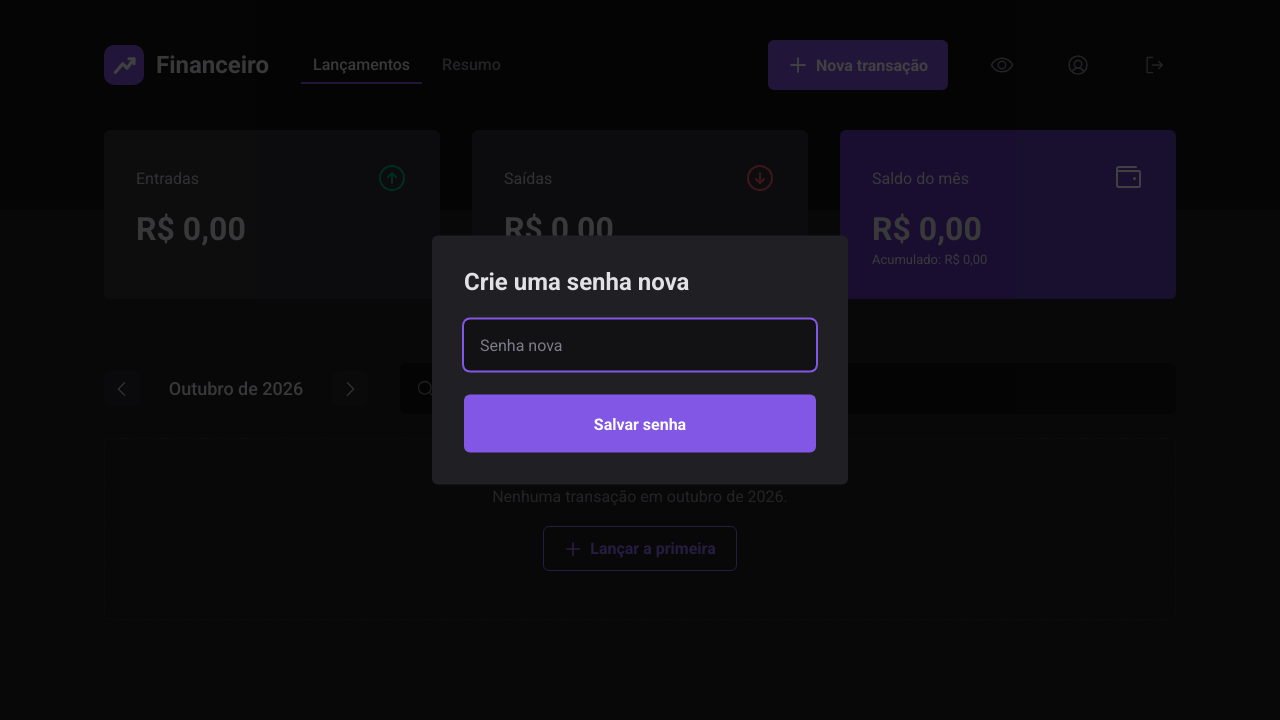
Scenario: login › voltando pelo link de senha nova, pede a senha nova
Expected: the text "Nenhuma transação em outubro de 2026." is shown, [492, 487, 788, 506]
Type "nova-senha-123" into the password field labelled "Senha nova" at (640, 345), box [464, 320, 816, 370]
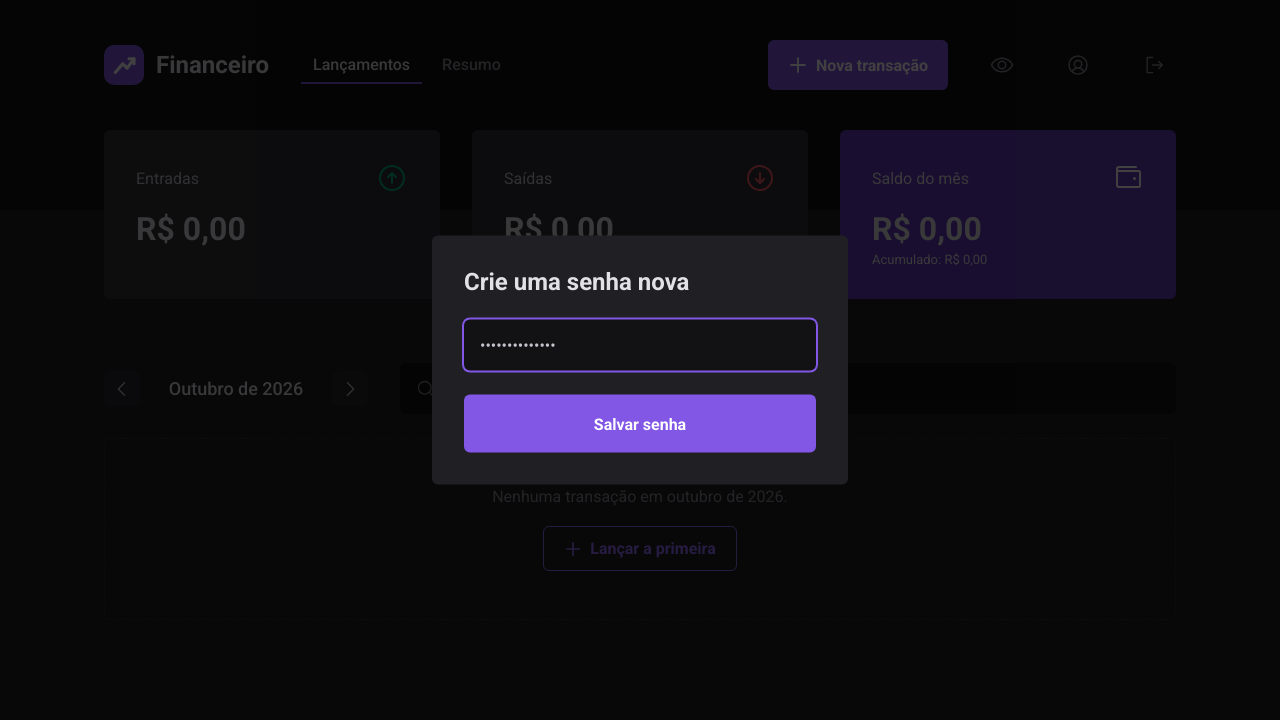
Click the button "Salvar senha" at (640, 424), box [464, 394, 816, 452]
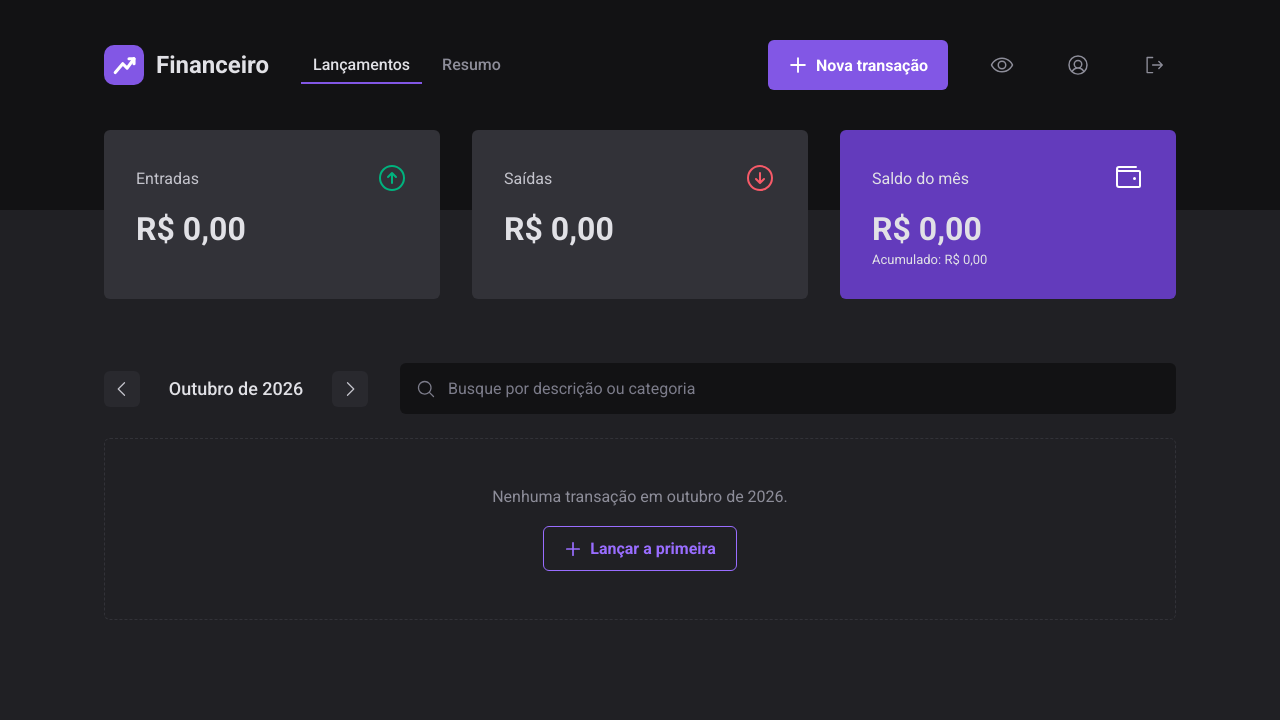
Now the heading labelled "senha nova" is gone
